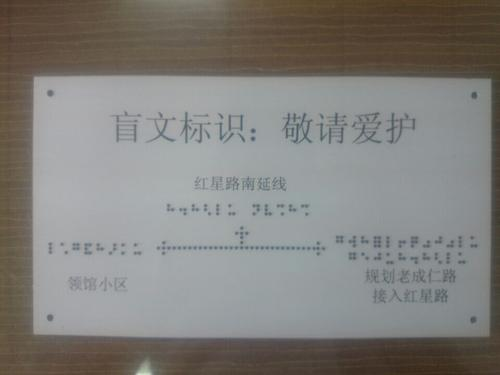Braille: (48, 241, 58, 255), (83, 242, 93, 256), (287, 204, 297, 218), (385, 235, 395, 249), (251, 203, 261, 216), (335, 235, 345, 248), (347, 235, 357, 248), (385, 252, 395, 265), (60, 241, 69, 255), (96, 242, 105, 256), (108, 242, 117, 256), (121, 243, 130, 257), (203, 203, 212, 217), (264, 203, 273, 217), (360, 235, 369, 249), (446, 235, 455, 249), (458, 235, 467, 249), (72, 242, 81, 255), (133, 243, 142, 256), (166, 203, 175, 216), (276, 204, 285, 217), (410, 236, 419, 249), (457, 252, 466, 265), (446, 252, 455, 265), (434, 252, 443, 265), (422, 252, 431, 265), (398, 252, 407, 265), (348, 251, 357, 264), (179, 203, 187, 217), (216, 203, 224, 217), (301, 204, 309, 218), (422, 235, 430, 249), (410, 253, 419, 265), (361, 252, 370, 264), (228, 204, 236, 217), (398, 235, 406, 248), (470, 235, 478, 248), (374, 252, 382, 265), (191, 204, 199, 216), (373, 236, 381, 248), (435, 236, 442, 249)
